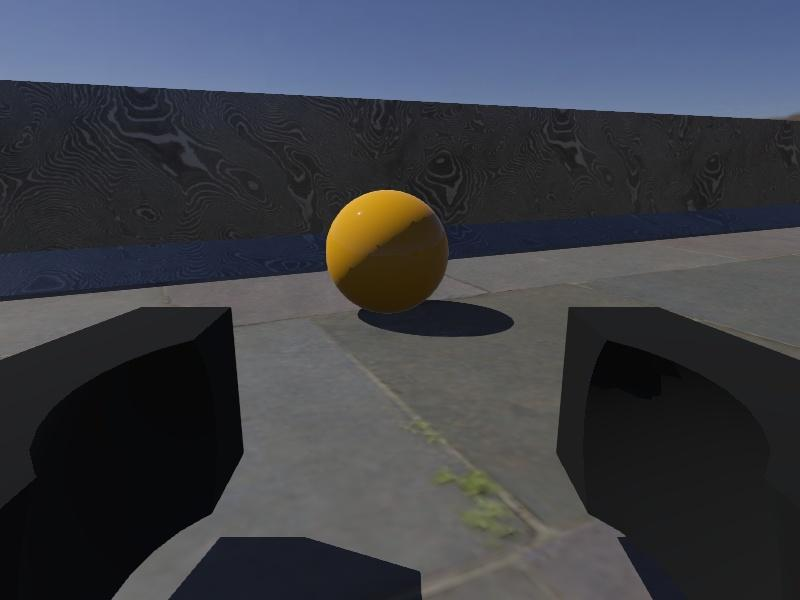orange ball: (325, 188, 450, 316)
